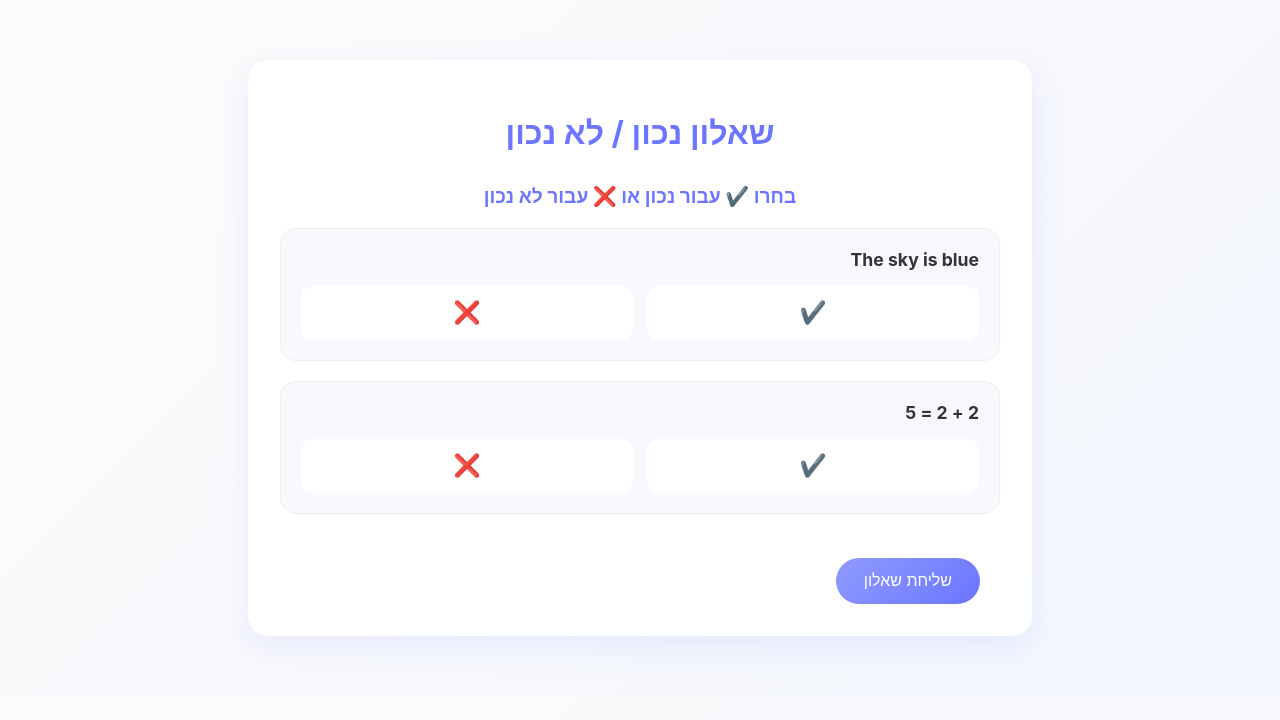
Scenario: TrueFalseQuizPage Component › shows warning if submit clicked without answering all questions
Click the button "שליחת שאלון". click: x=908, y=581
box: [836,558,980,604]
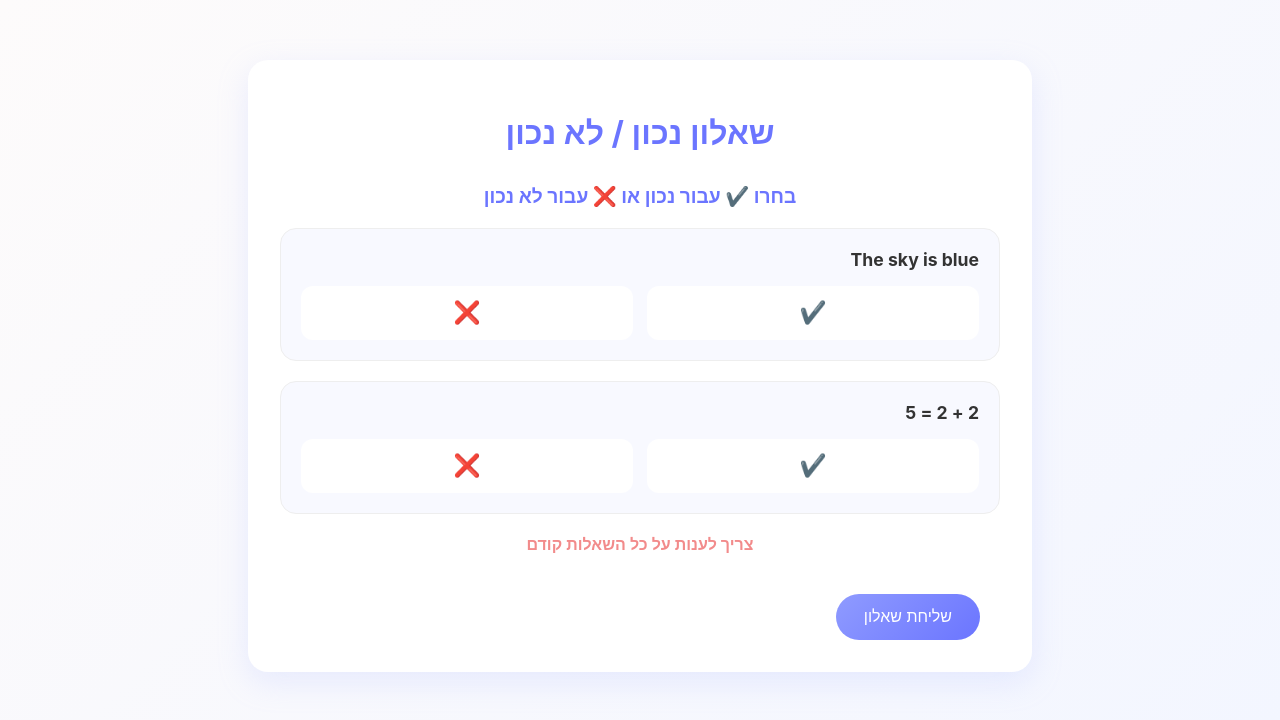
Result: the text "צריך לענות על כל השאלות קודם" is shown at [526,534,754,554]
